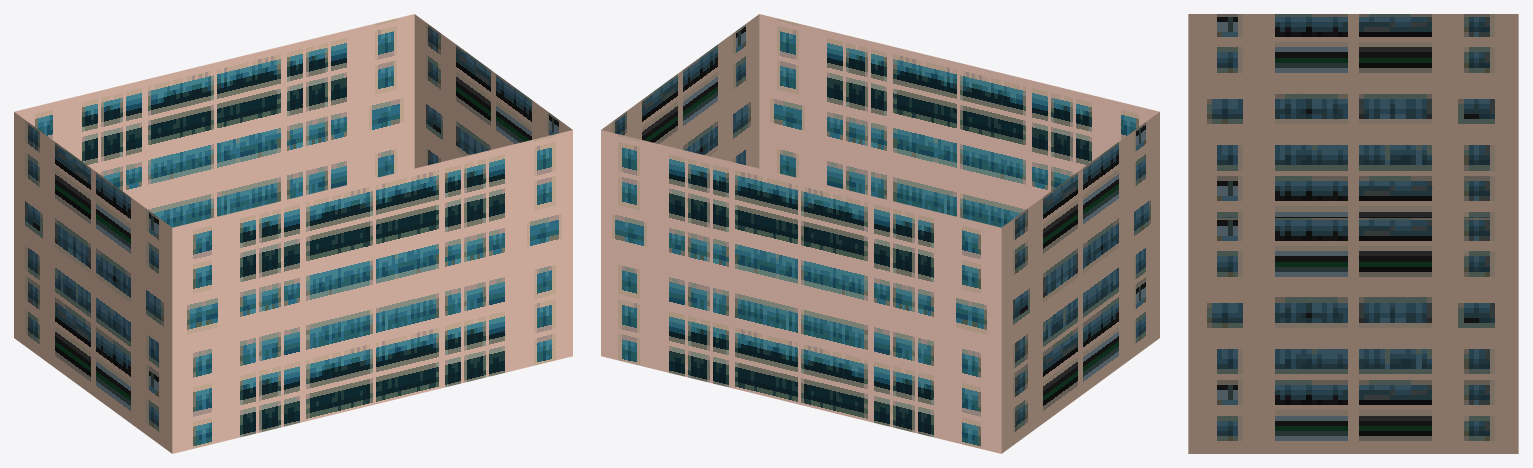
The picture shows the model from 3 angles, left to right: view 1: azimuth 30°, elevation 25°; view 2: azimuth 150°, elevation 25°; view 3: azimuth 270°, elevation 25°; orthographic projection. The views are drawn at different scales.
Visible parts, largest first — view 1: obj-131; view 2: obj-131; view 3: obj-131.
Boxes of the visible parts, x1,y1,x2,y2 form: obj-131: (14,14,572,453); obj-131: (601,14,1159,453); obj-131: (1188,14,1518,453).
Bounding box in the file's own units: 4.44 × 2.4 × 3.04.
Materials: 1 (1 with a texture image).
